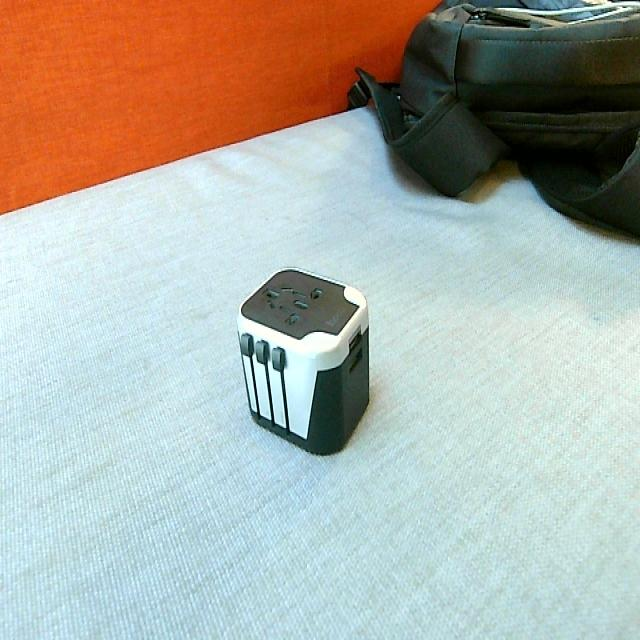adapter: (236, 265, 370, 455)
